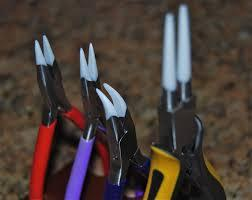pliers: (27, 32, 76, 199), (65, 39, 99, 199)
